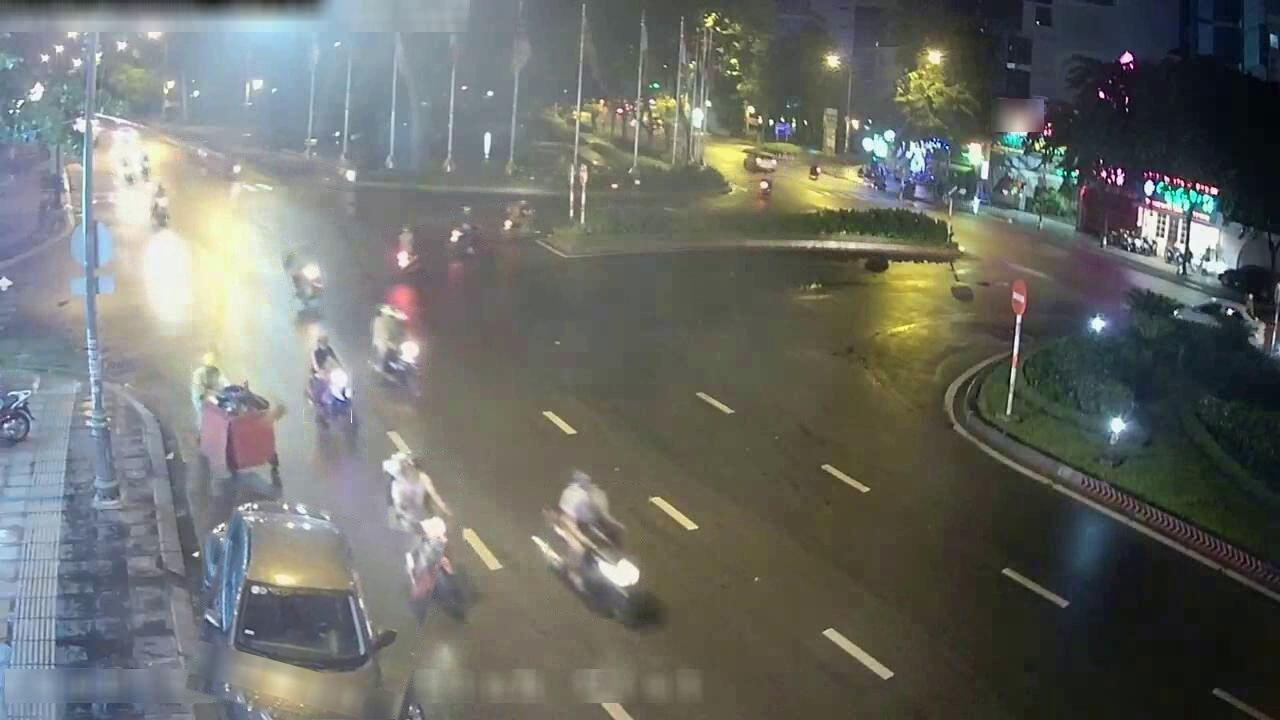Car: (189, 500, 396, 719), (744, 151, 777, 173)
Motorcycle: (0, 388, 33, 443)
Motorcyclist: (533, 470, 640, 620), (382, 451, 463, 623), (371, 304, 425, 393), (306, 334, 356, 430), (282, 249, 323, 308), (448, 212, 481, 255), (394, 226, 422, 276), (502, 202, 536, 235), (321, 164, 356, 188), (151, 183, 169, 226), (179, 141, 210, 163), (224, 158, 246, 182), (117, 158, 136, 185), (138, 151, 151, 179)
Sign: (1011, 279, 1027, 316)
